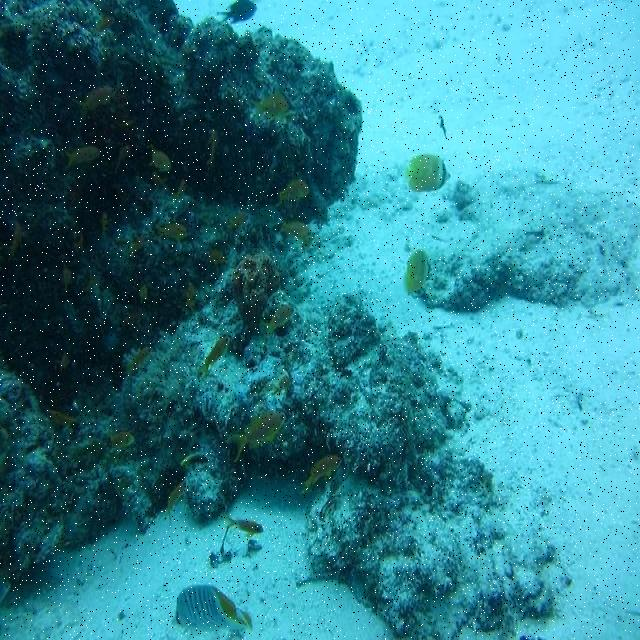fish: (170, 583, 252, 634), (227, 407, 285, 459), (404, 152, 450, 192), (304, 453, 344, 495), (249, 90, 292, 124), (405, 252, 434, 294), (220, 514, 263, 542), (217, 0, 256, 25)
sea-floor: (0, 0, 569, 639)
